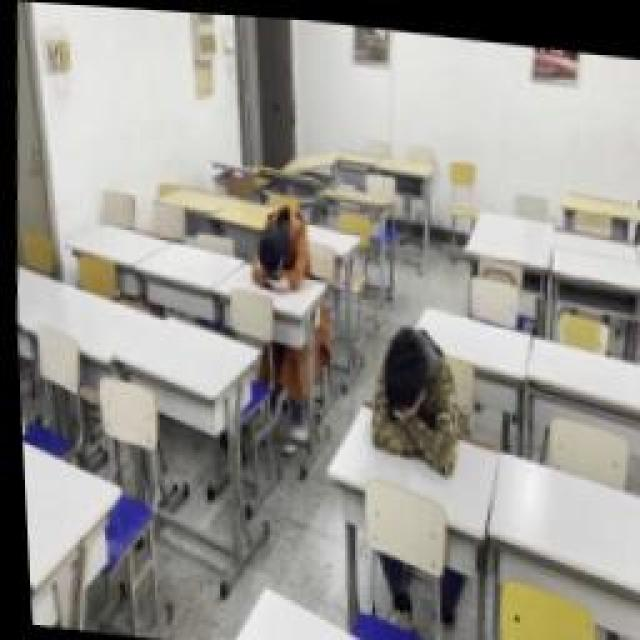sleep: (358, 310, 468, 468), (245, 197, 313, 295)
